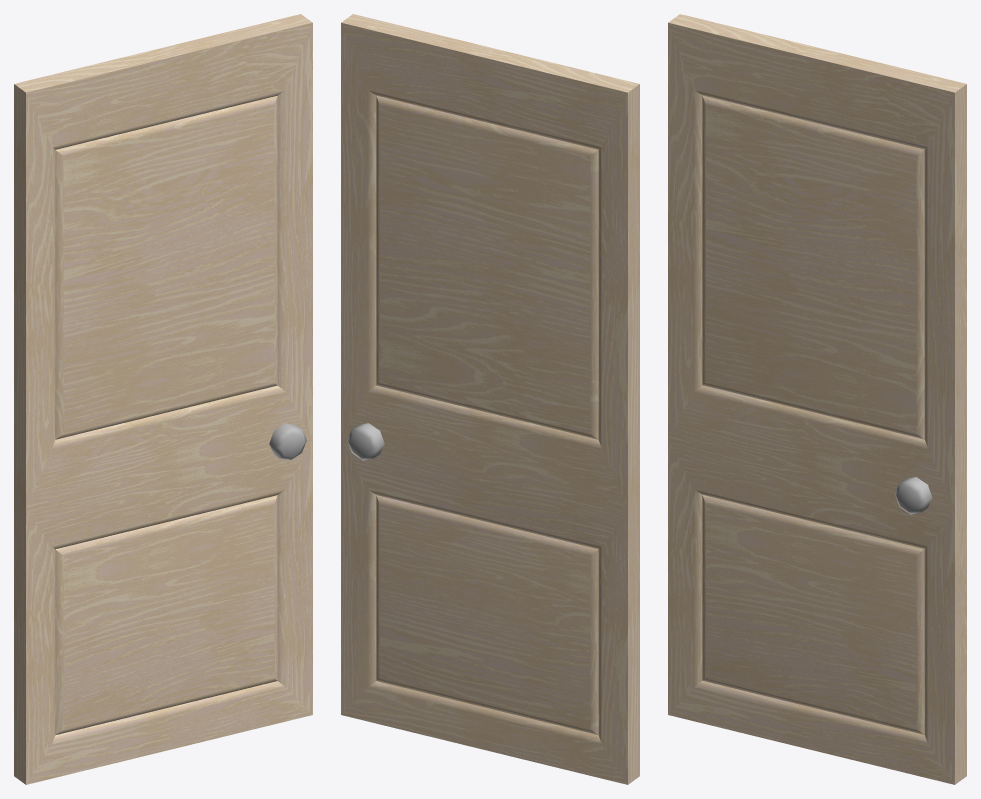
File: door_004.fbx
The picture shows the model from 3 angles, left to right: view 1: azimuth 30°, elevation 25°; view 2: azimuth 150°, elevation 25°; view 3: azimuth 330°, elevation 25°; orthographic projection.
Visible parts, largest first — view 1: door_004; view 2: door_004; view 3: door_004.
Part boxes in pixels (x1,y1,x2,y2): door_004: (14,14,312,784); door_004: (341,14,639,784); door_004: (668,14,966,784).
Size of the model in its own units: 95.15 by 23.13 by 219.
